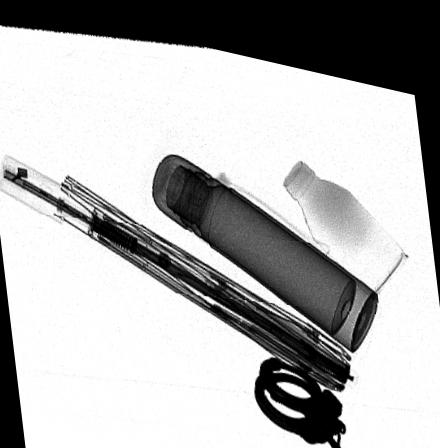HandCuffs: (254, 345, 346, 437)
